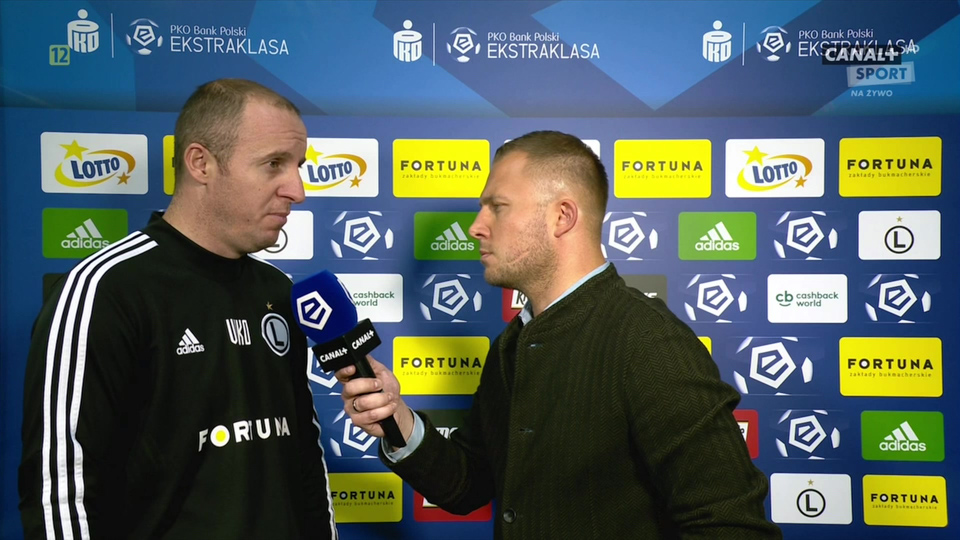Adidas: (60, 217, 113, 250), (430, 220, 476, 254), (878, 420, 927, 451), (693, 220, 739, 252), (174, 327, 206, 356)
